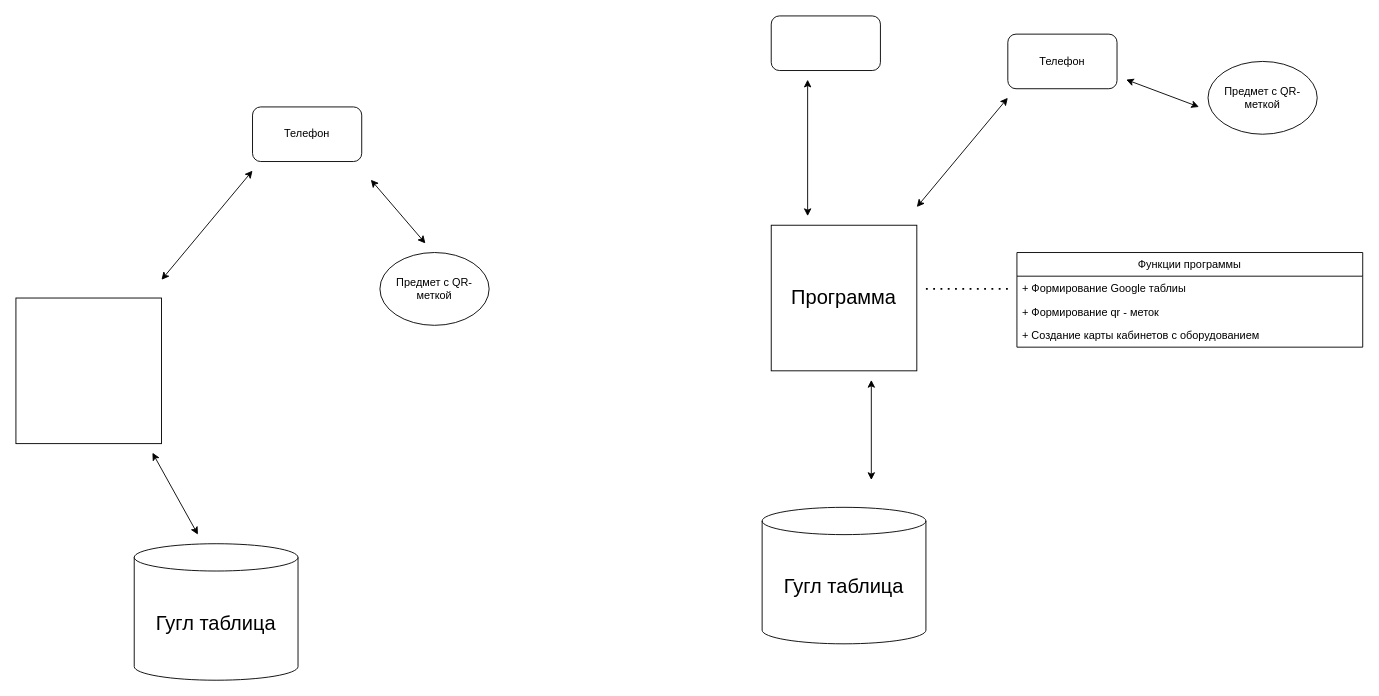
The diagram is 1379 pixels wide and 696 high, and some of its shapes have lost their labels. The centre of each missing label's shape, as x and y in pixels:
ПК: pixel 825 43
Сервер: pixel 88 370
